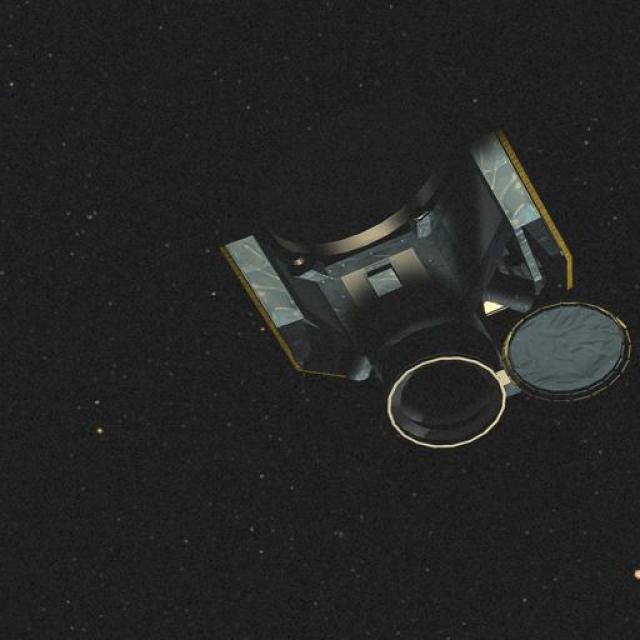cheops: (243, 132, 620, 444)
